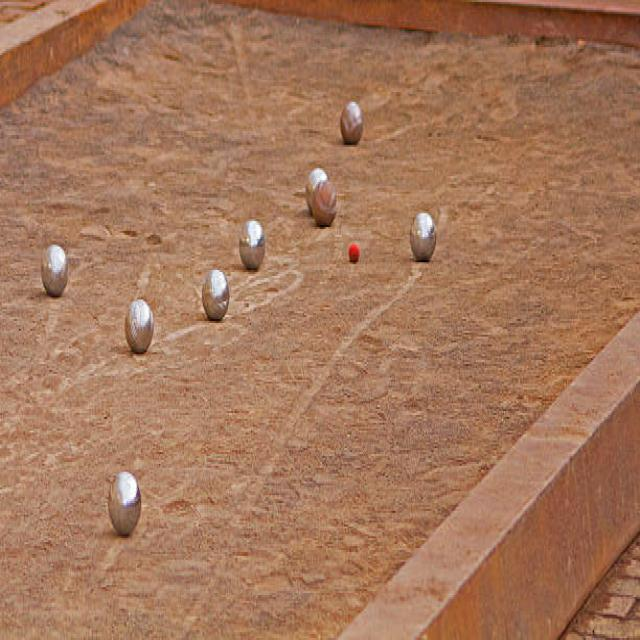hatball: (347, 236, 363, 264)
petanque: (119, 294, 164, 370), (101, 469, 142, 547), (232, 211, 273, 278), (193, 259, 234, 324), (35, 241, 73, 305), (408, 206, 437, 264), (299, 161, 332, 210), (338, 98, 366, 155), (311, 184, 342, 228)
